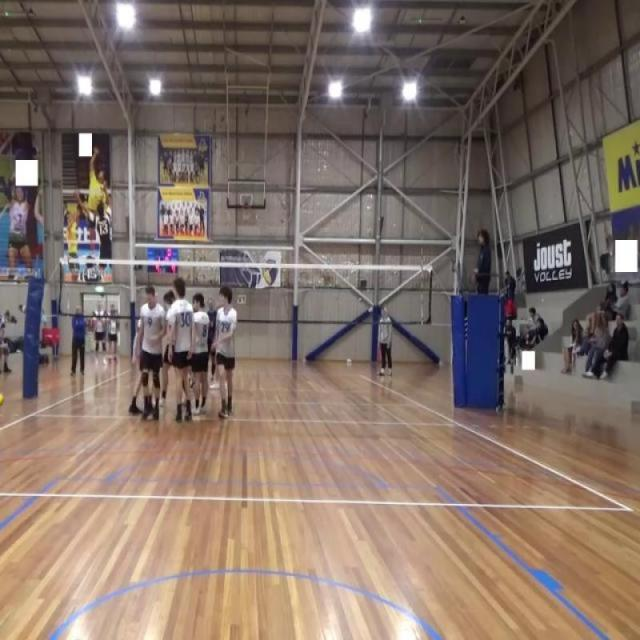volleyball: (0, 394, 5, 406)
